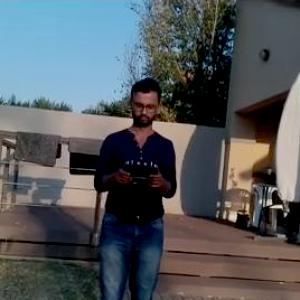follow: (96, 77, 193, 299)
